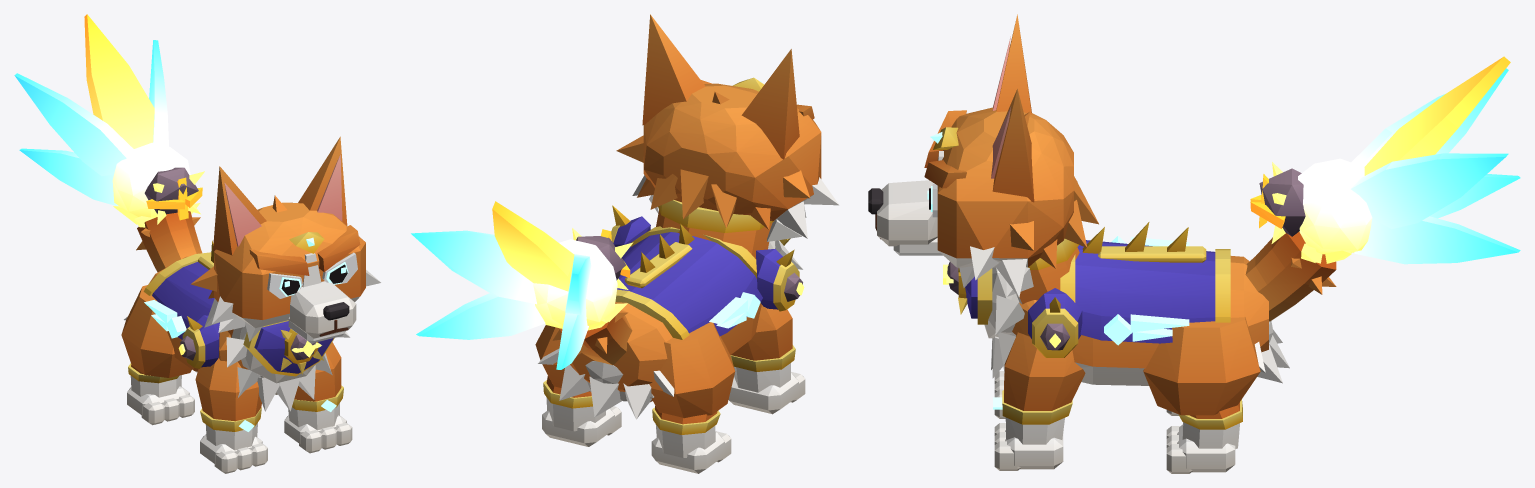
Rendered from CometCorgi.glb.
3 renders of one model, left to right at view 1: azimuth 30°, elevation 25°; view 2: azimuth 150°, elevation 25°; view 3: azimuth 270°, elevation 25°, orthographic. The views are drawn at different scales.
Parts seen in each view (by area): view 1: CometCorgi; view 2: CometCorgi; view 3: CometCorgi.
Part boxes in pixels (bbox=[...]): CometCorgi: bbox=[14, 14, 380, 473]; CometCorgi: bbox=[411, 14, 838, 473]; CometCorgi: bbox=[868, 14, 1520, 473].
Bounding box in the file's own units: 0.59 × 1 × 1.56.
Materials: 1 (1 with a texture image).
